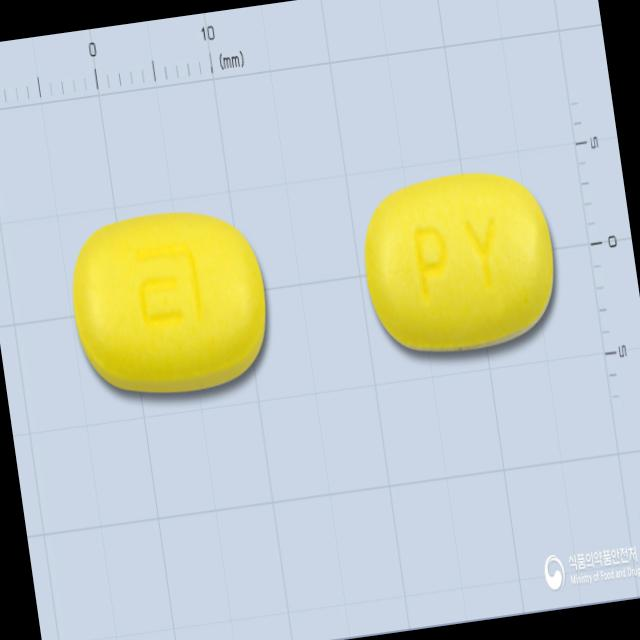Pilocin Tab: (62, 202, 277, 406), (355, 165, 566, 363)
